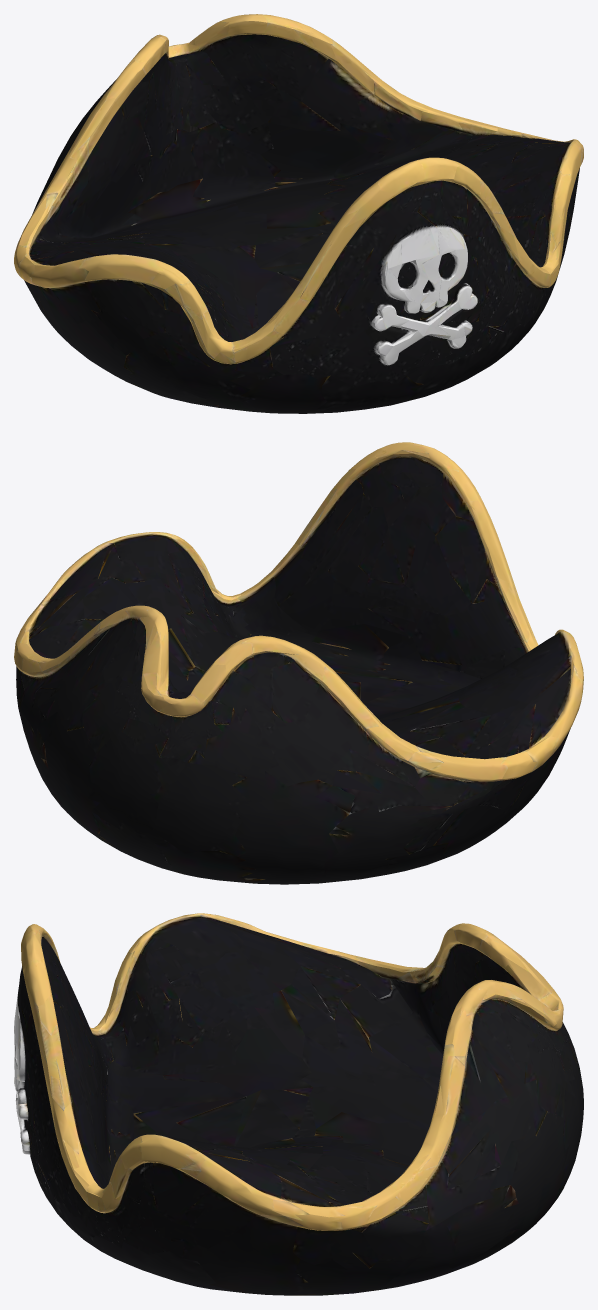
The model's file is pirate_hat.glb.
The picture shows the model from 3 angles, top to bottom: view 1: azimuth 30°, elevation 25°; view 2: azimuth 150°, elevation 25°; view 3: azimuth 270°, elevation 25°; orthographic projection. The views are drawn at different scales.
Bounding box in the file's own units: 1.9 × 0.886 × 1.7.
1 material, 1 textured.
